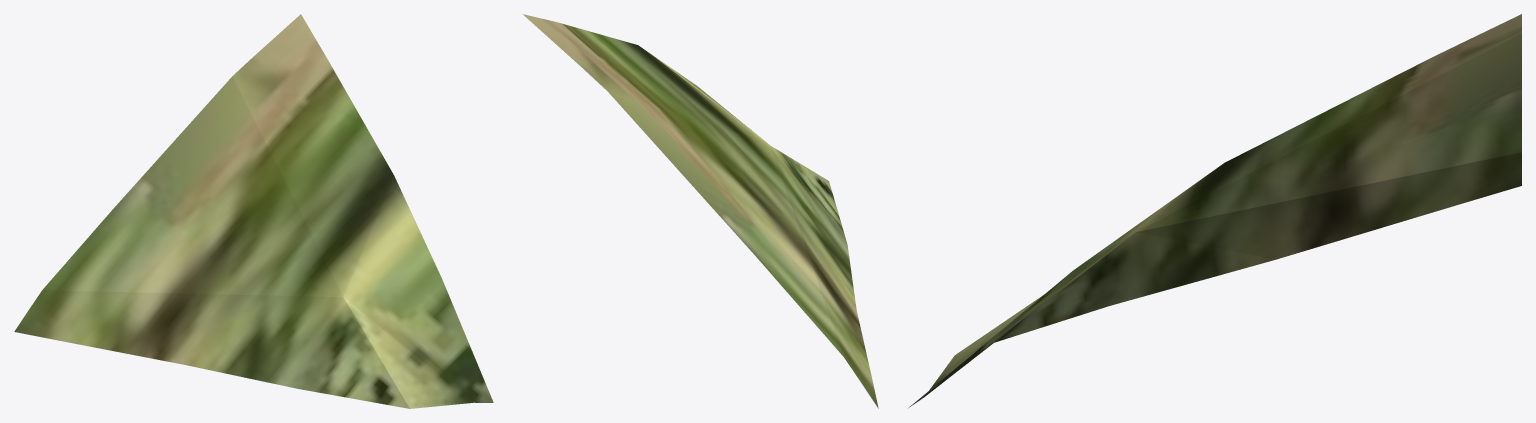
The picture shows the model from 3 angles, left to right: view 1: azimuth 30°, elevation 25°; view 2: azimuth 150°, elevation 25°; view 3: azimuth 270°, elevation 25°; orthographic projection. The views are drawn at different scales.
Bounding box in the file's own units: 0.6385 × 0.5273 × 0.7436.
Materials: 1 (1 with a texture image).
